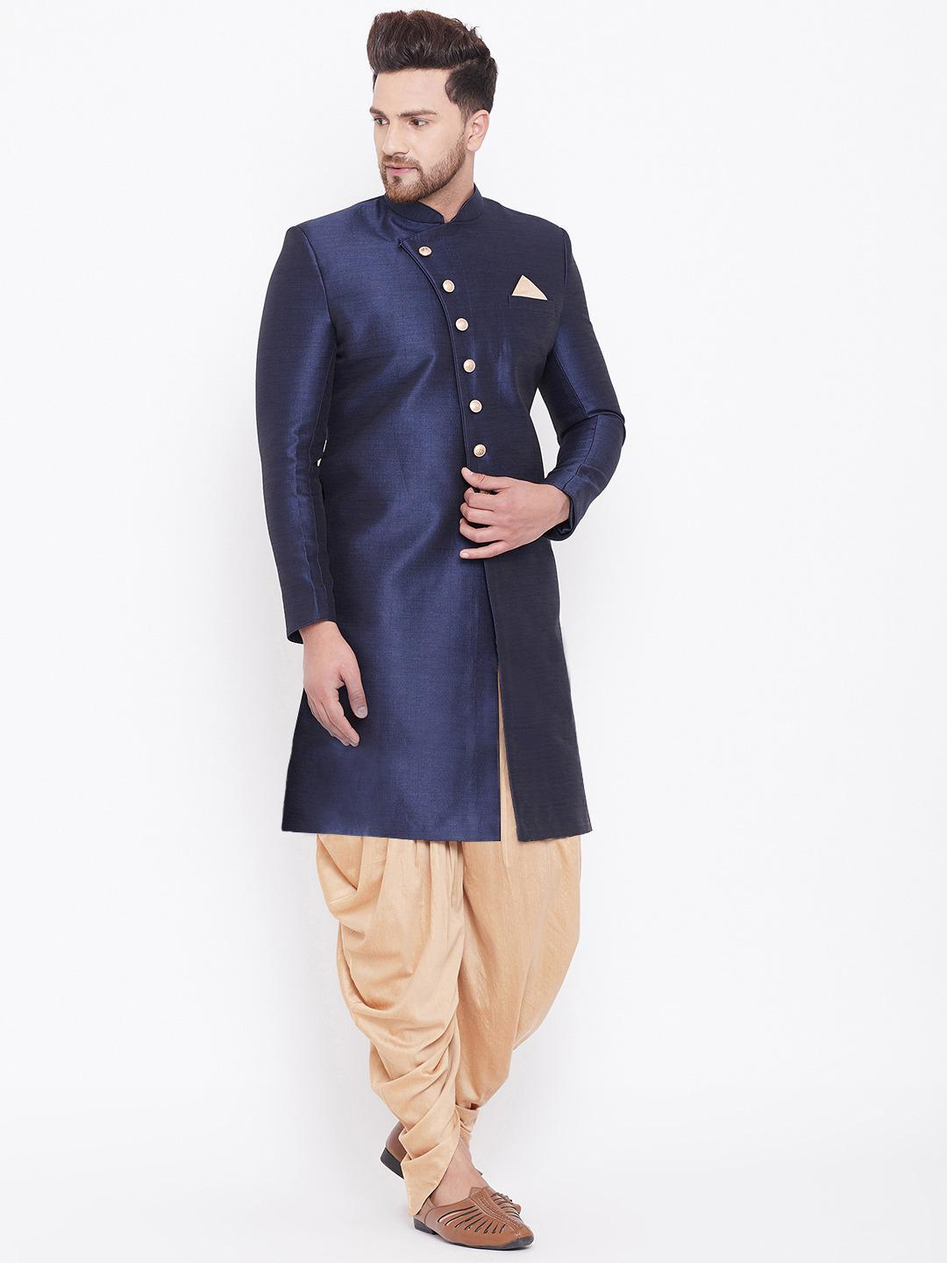Plain Sherwani: (249, 183, 631, 848)
